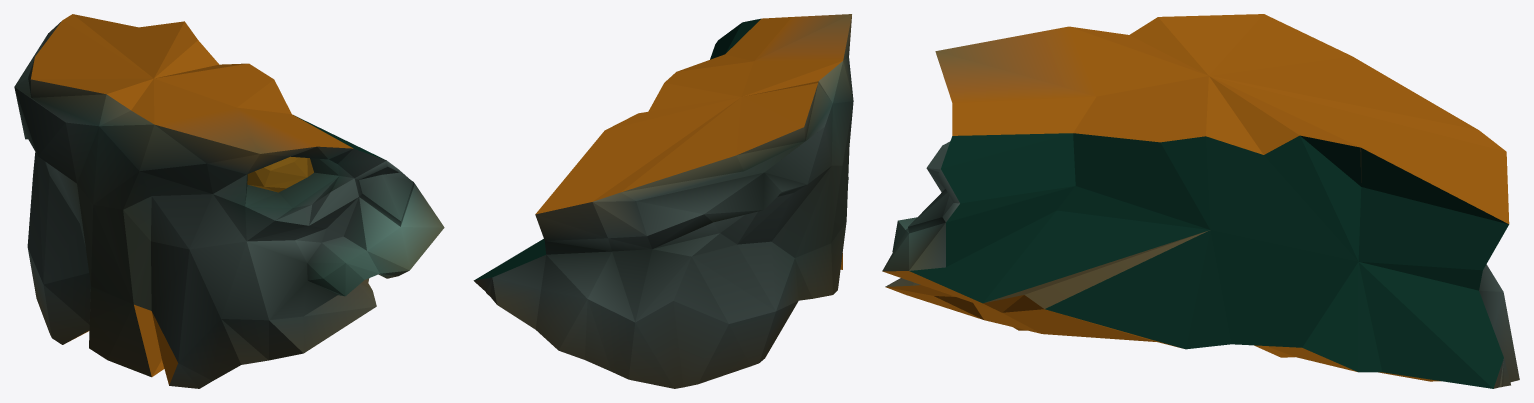
The model's file is ENV_Totem_01_BrokenPiece_02.fbx.
3 views of the same model, side by side, from view 1: azimuth 30°, elevation 25°; view 2: azimuth 150°, elevation 25°; view 3: azimuth 270°, elevation 25° (orthographic). The views are drawn at different scales.
Parts seen in each view (by area): view 1: ENV_Totem_01_BrokenPiece_02; view 2: ENV_Totem_01_BrokenPiece_02; view 3: ENV_Totem_01_BrokenPiece_02.
Part boxes in pixels (x1,y1,x2,y2): ENV_Totem_01_BrokenPiece_02: (14,14,444,388); ENV_Totem_01_BrokenPiece_02: (473,14,853,388); ENV_Totem_01_BrokenPiece_02: (882,14,1519,388).
Bounding box in the file's own units: 203 × 191 × 330.
